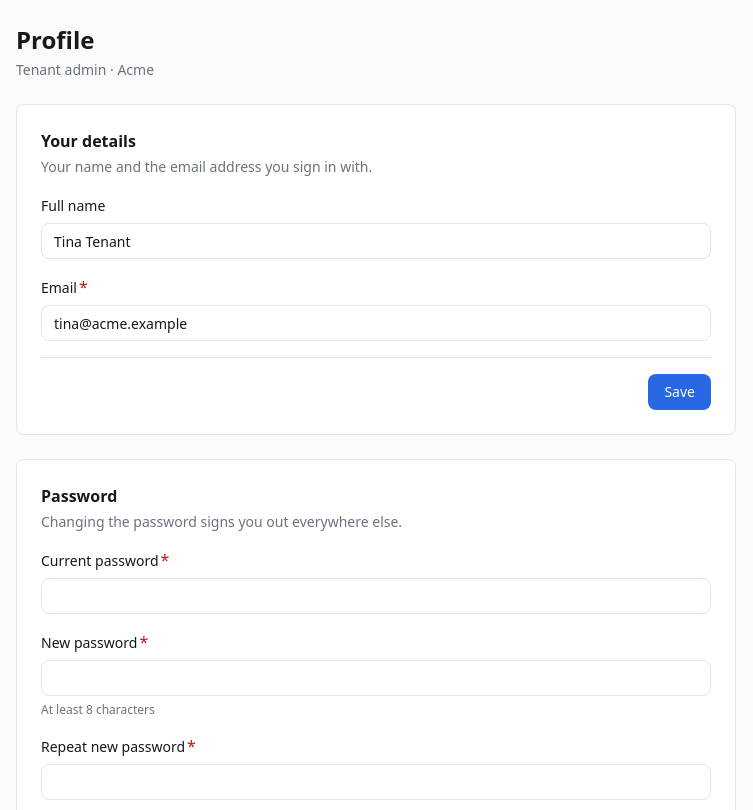
it: ProfilePage › checks the new password before sending it
Type "old-password" into the password field labelled "Current password".
click(376, 596); type("old-password")  # box left=41, top=578, right=711, bottom=614
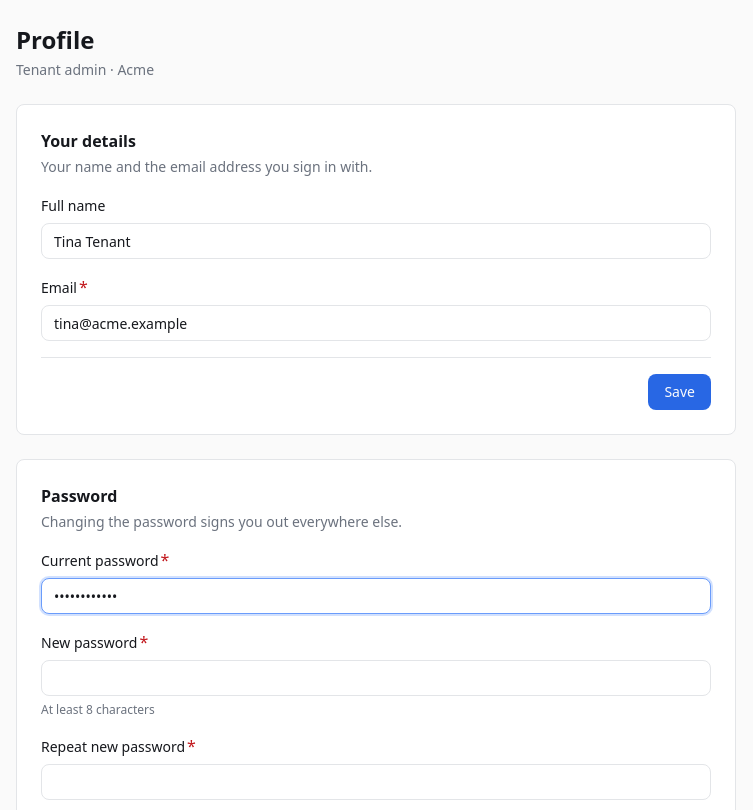
Type "new-password" into the password field labelled "New password".
click(376, 678); type("new-password")  # box left=41, top=660, right=711, bottom=696
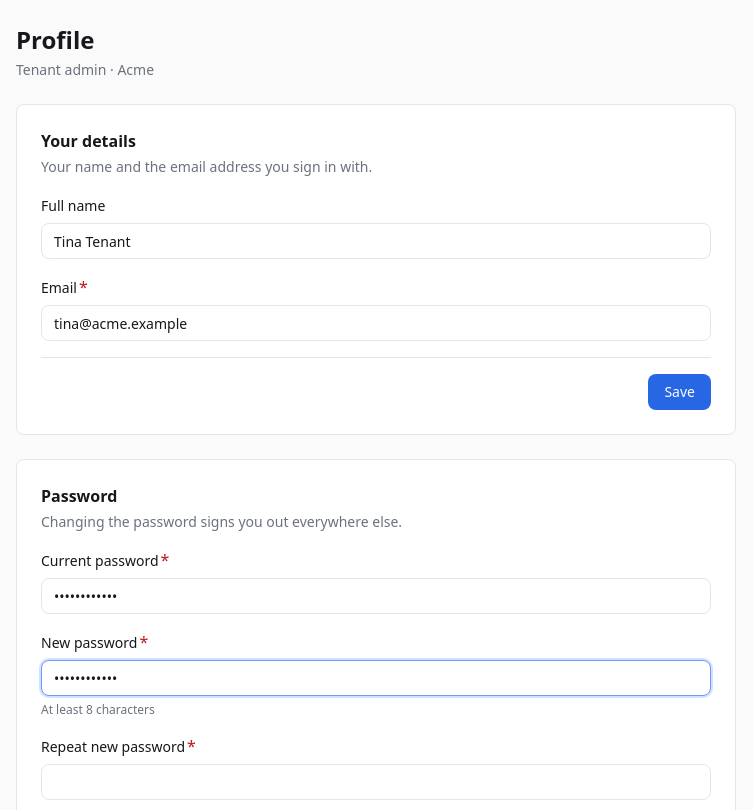
Type "other-password" into the password field labelled "Repeat new password".
click(376, 782); type("other-password")  # box left=41, top=764, right=711, bottom=800
(page scrolled)
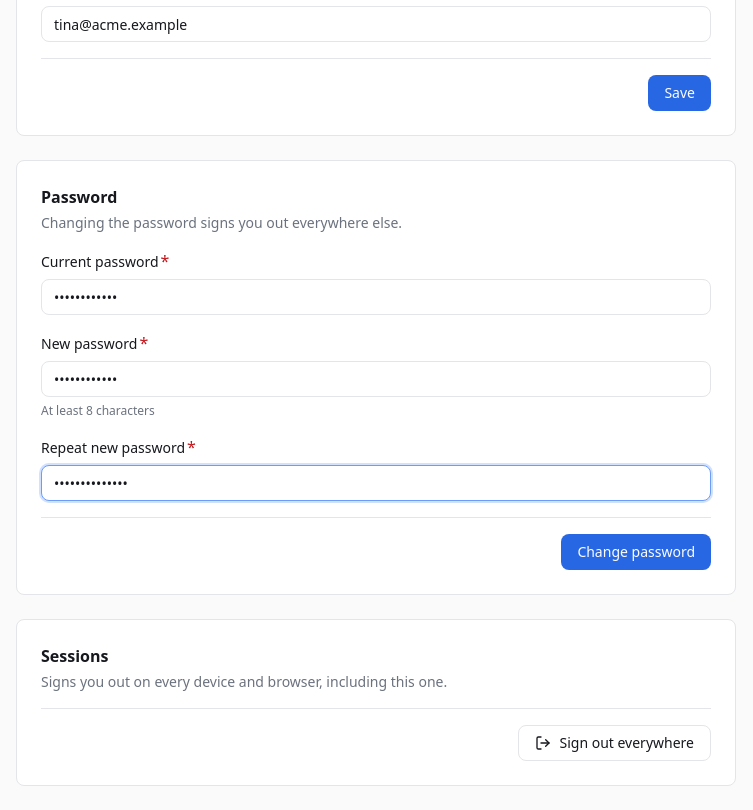
Click the button "Change password".
click(636, 552)  # box left=561, top=534, right=711, bottom=570
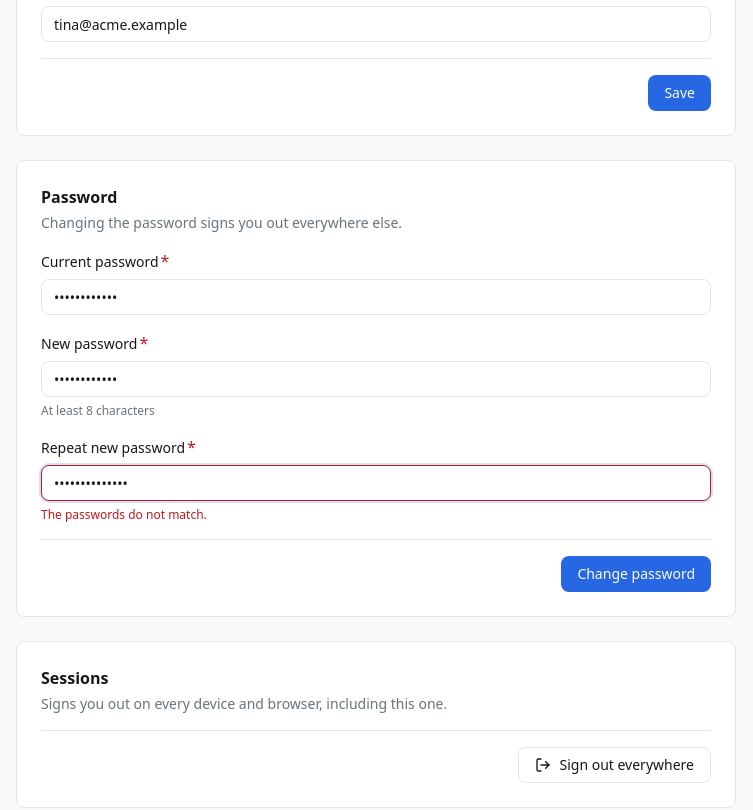
Expected: the text "The passwords do not match." is shown, left=41, top=506, right=207, bottom=523
